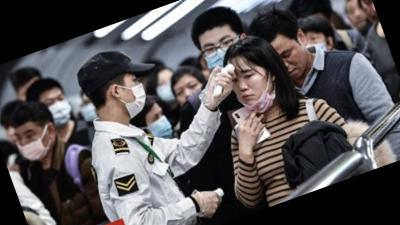mask_weared_incorrect: (226, 62, 280, 121)
with_mask: (199, 31, 246, 76), (11, 122, 53, 167), (117, 73, 154, 121), (41, 91, 77, 131), (141, 107, 176, 146), (152, 72, 184, 108), (78, 96, 101, 125)
without_mask: (274, 41, 313, 84), (344, 1, 373, 33)
